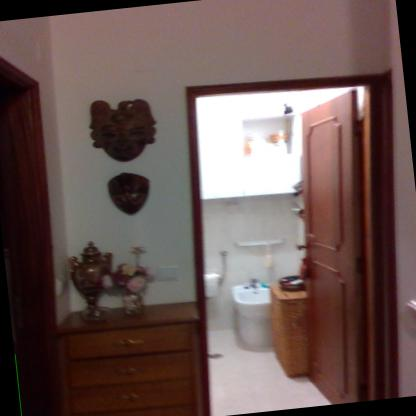open: (154, 54, 415, 415)
